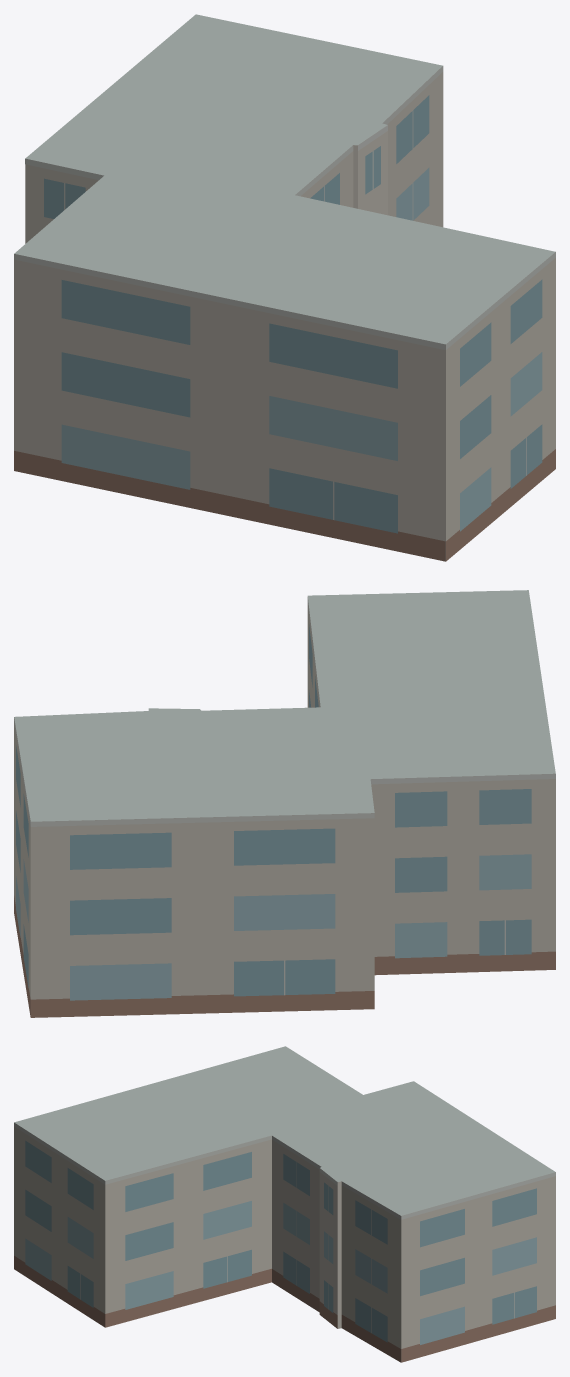
File: survey-upis-32511936.glb
3 views of the same model, one above another, from view 1: azimuth 30°, elevation 25°; view 2: azimuth 150°, elevation 25°; view 3: azimuth 270°, elevation 25° (orthographic). The views are drawn at different scales.
Parts seen in each view (by area): view 1: survey-upis-32511936.tmp; view 2: survey-upis-32511936.tmp; view 3: survey-upis-32511936.tmp.
Part boxes in pixels (x1,y1,x2,y2): survey-upis-32511936.tmp: [14, 14, 555, 561]; survey-upis-32511936.tmp: [14, 590, 555, 1017]; survey-upis-32511936.tmp: [14, 1046, 555, 1362].
Bounding box in the file's own units: 22.7 × 9.15 × 30.62.
